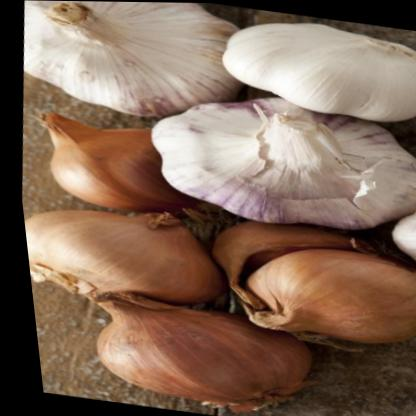--: (99, 73, 416, 262), (11, 0, 268, 139), (208, 3, 416, 132)
